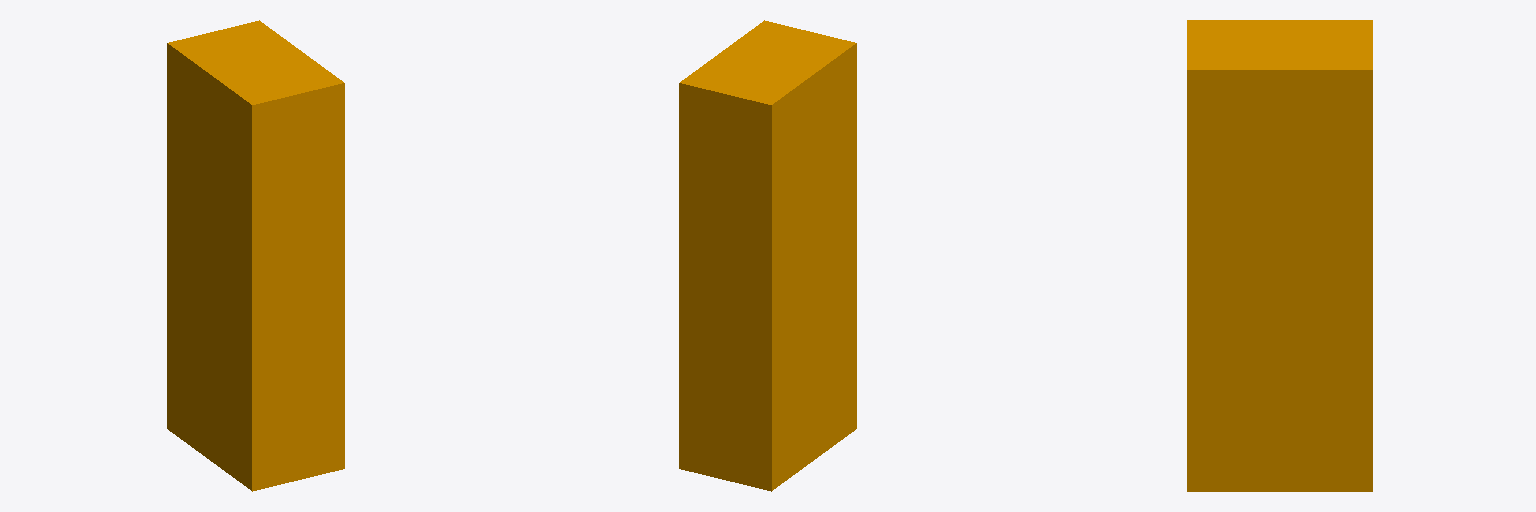
The robot description file, URDF, robot "simple_box":
<robot name="simple_box">
  <link name="my_box">
    <inertial>
      <origin xyz="0 0 0" />
      <mass value="1.0" />
      <inertia  ixx="1.0" ixy="0.0"  ixz="0.0"  iyy="100.0"  iyz="0.0"  izz="1.0" />
    </inertial>
    <visual>
      <origin xyz="-0.678912 0.0225 0.10001"/>
      <geometry>
        <box size="0.05 0.08 0.2" />
      </geometry>
    </visual>
    <collision>
      <origin xyz="-0.678912 0.0225 0.10001"/>
      <geometry>
        <box size="0.05 0.08 0.2" />
      </geometry>
    </collision>
  </link>
  <gazebo reference="my_box">
    <material>Gazebo/Blue</material>
    <mu1>0.2</mu1>
    <mu2>0.2</mu2>
  </gazebo>
</robot>

--- What the picture shows (computed from the rendered views, not written in the file) ---
3 views of the same robot in one strip: view 1: azimuth 30°, elevation 25°; view 2: azimuth 150°, elevation 25°; view 3: azimuth 270°, elevation 25° (orthographic).
Model simple_box with 1 links and 0 joints (none), rooted at my_box, posed all joints at 0.
Visible links, largest first — view 1: my_box; view 2: my_box; view 3: my_box.
Link boxes in pixels (<box>): my_box: <box>167,20,344,491</box>; my_box: <box>679,20,856,491</box>; my_box: <box>1187,20,1372,491</box>.
Bounding box of the posed robot: 0.05 × 0.08 × 0.2 m (x, y, z).
Geometry: primitives only (box / cylinder / sphere), no mesh files.